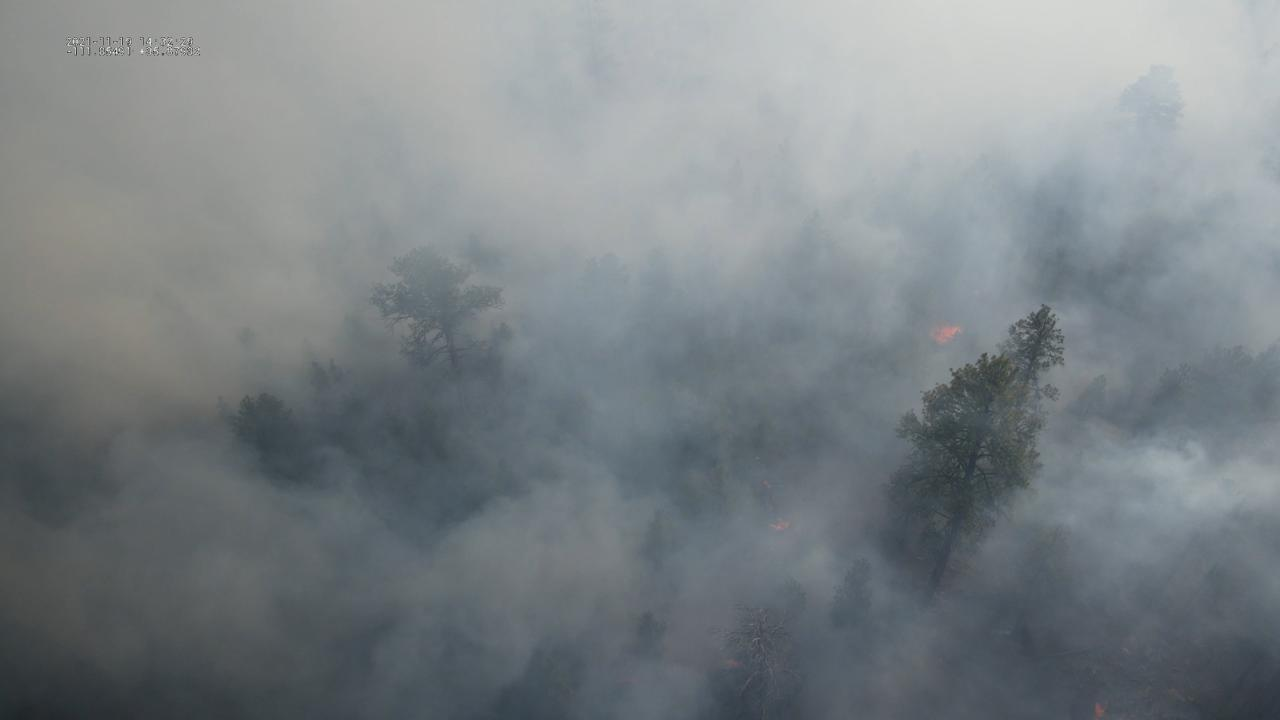fire: (925, 319, 963, 349), (766, 514, 792, 533), (1091, 701, 1109, 720), (760, 480, 773, 490)
smoke: (0, 0, 1280, 720)
